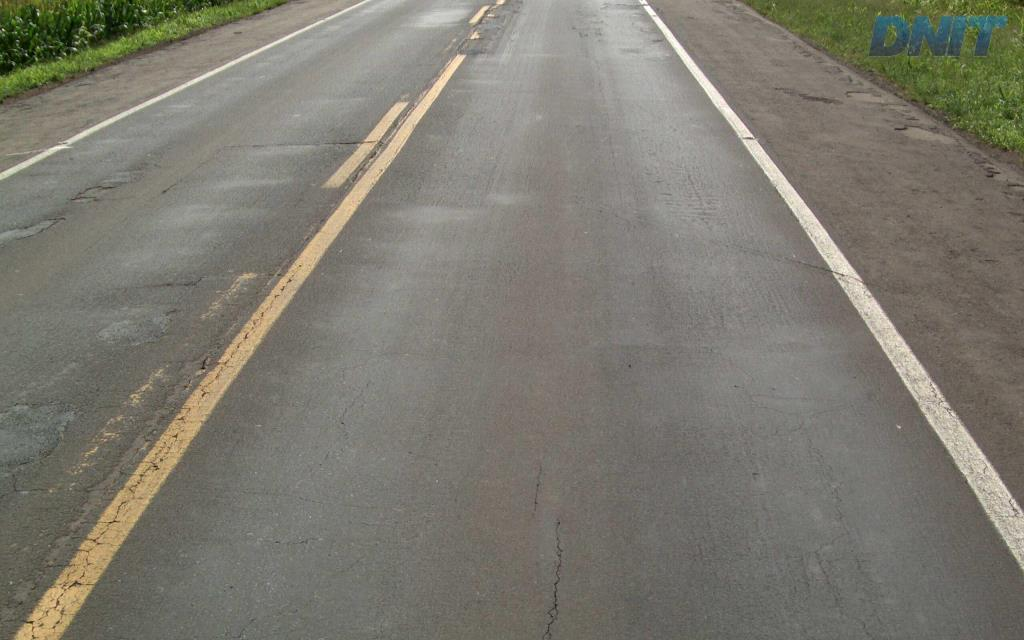crack: (541, 542, 563, 639)
